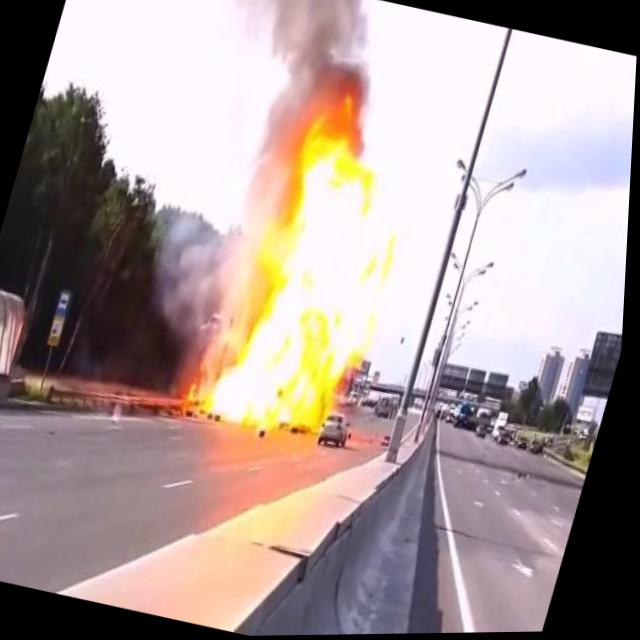fire: (178, 104, 432, 463)
